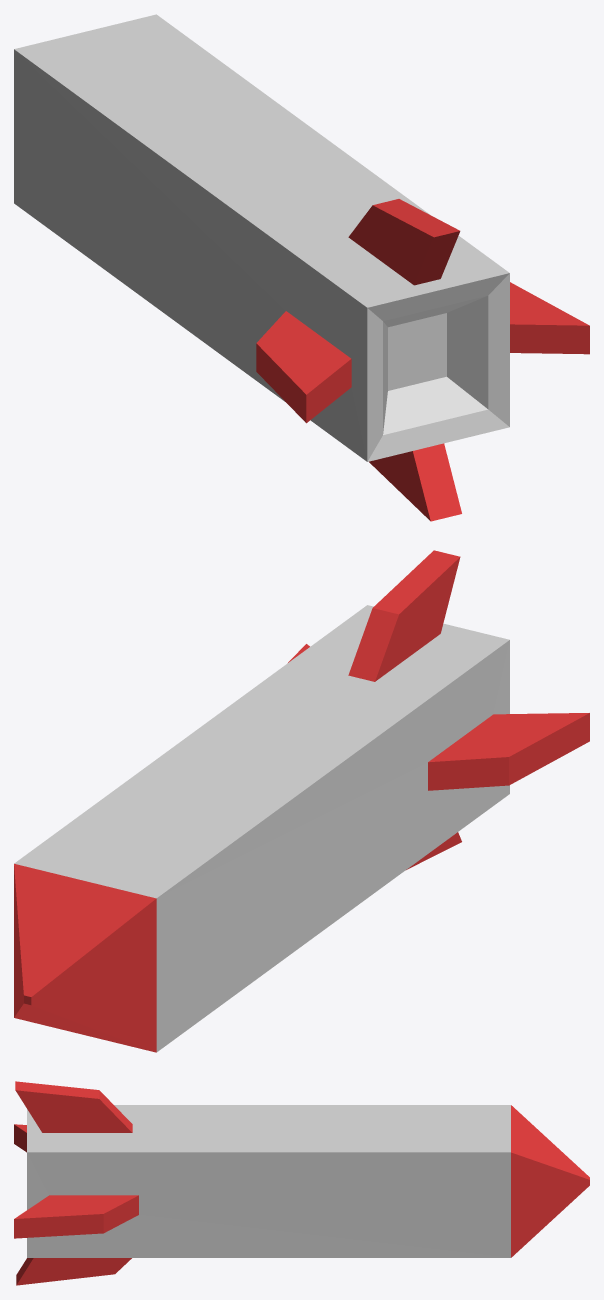
File: rocket.fbx
3 views of the same model, one above another, from view 1: azimuth 30°, elevation 25°; view 2: azimuth 150°, elevation 25°; view 3: azimuth 270°, elevation 25° (orthographic). The views are drawn at different scales.
Parts seen in each view (by area): view 1: pCube1; view 2: pCube1; view 3: pCube1.
Boxes of the visible parts, bbox=[...] form: pCube1: bbox=[14, 14, 589, 521]; pCube1: bbox=[14, 550, 589, 1052]; pCube1: bbox=[14, 1081, 589, 1285].
Size of the model in its own units: 0.5316 by 0.5089 by 1.37.
